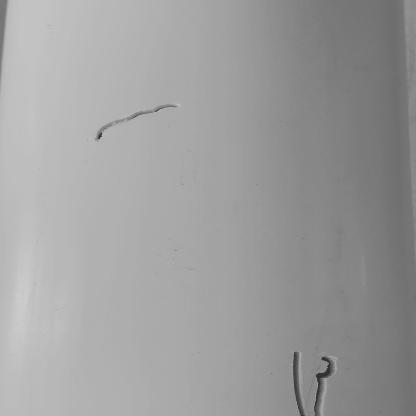fengxi: (91, 101, 182, 140), (293, 352, 338, 416)
